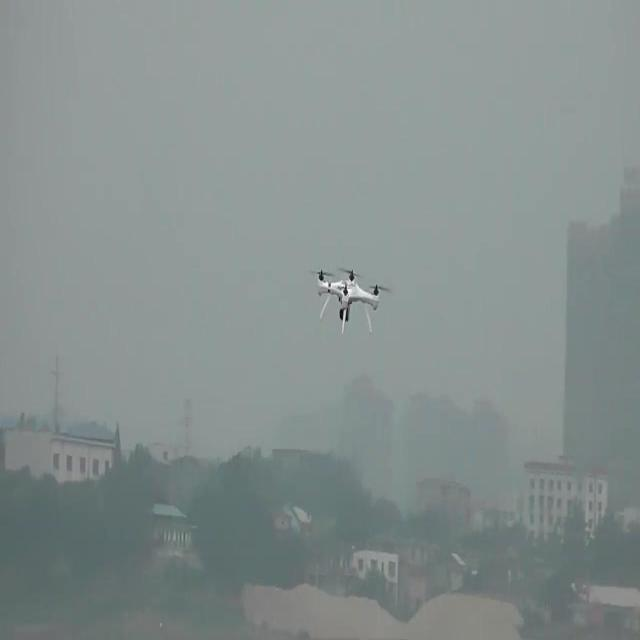drone: (308, 264, 391, 342)
